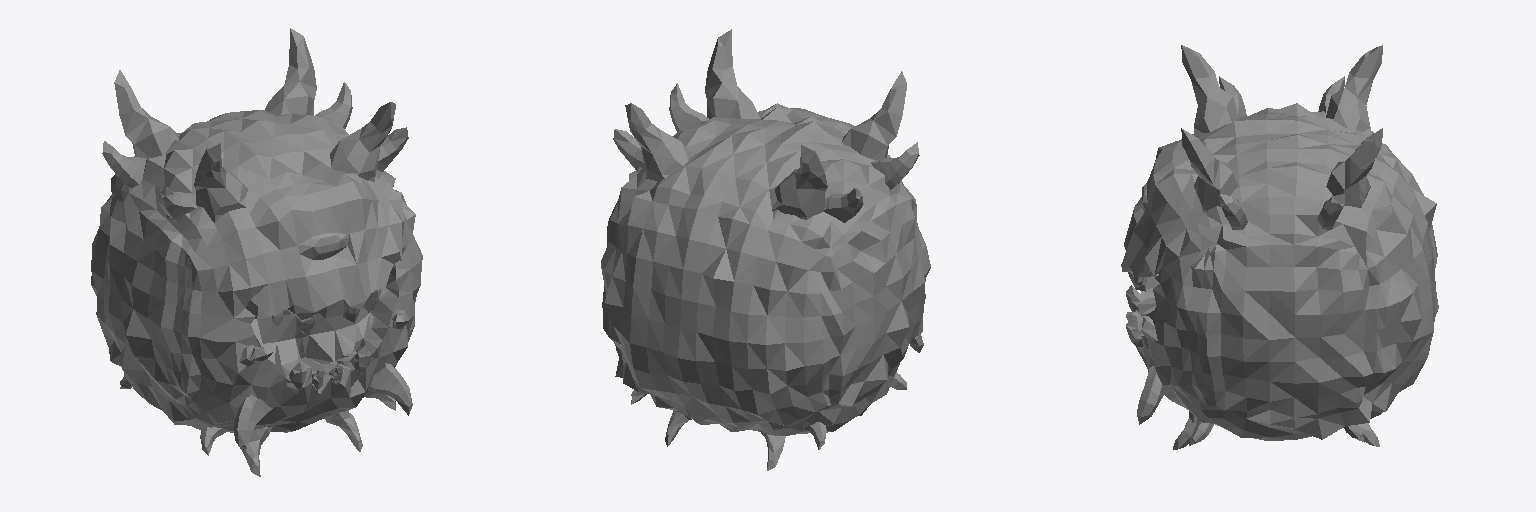
The model's file is cacodemon.obj.
3 renders of one model, left to right at view 1: azimuth 30°, elevation 25°; view 2: azimuth 150°, elevation 25°; view 3: azimuth 270°, elevation 25°, orthographic.
Parts seen in each view (by area): view 1: Cube_001; view 2: Cube_001; view 3: Cube_001.
Boxes of the visible parts, <box> form: Cube_001: <box>91,28,422,476</box>; Cube_001: <box>601,29,930,470</box>; Cube_001: <box>1121,45,1438,449</box>.
Bounding box in the file's own units: 17.97 × 21.44 × 18.18.